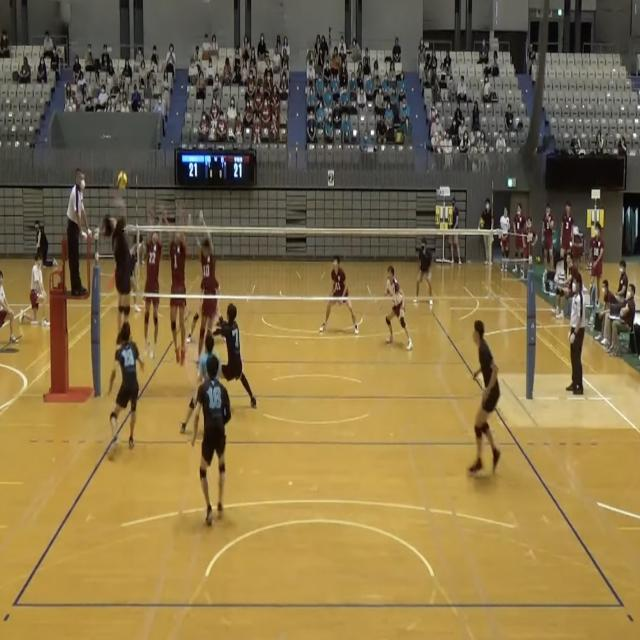spike: (100, 169, 142, 348)
